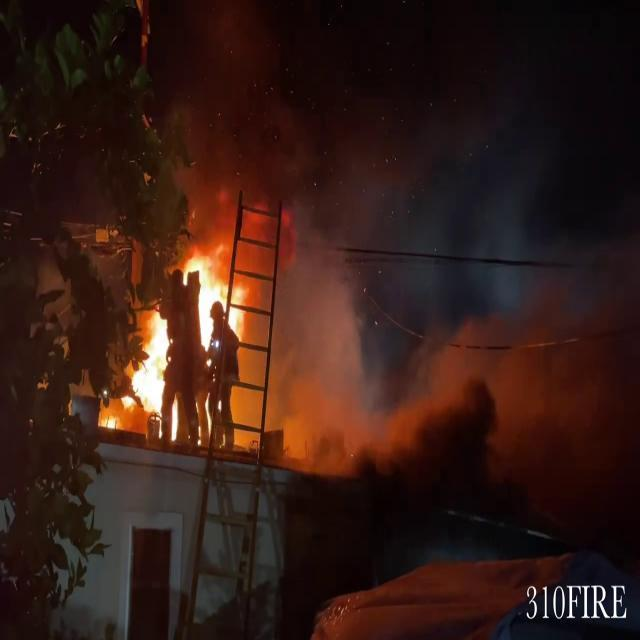Fire: (98, 304, 178, 441), (192, 244, 252, 352)
Smoke: (281, 0, 640, 451)
